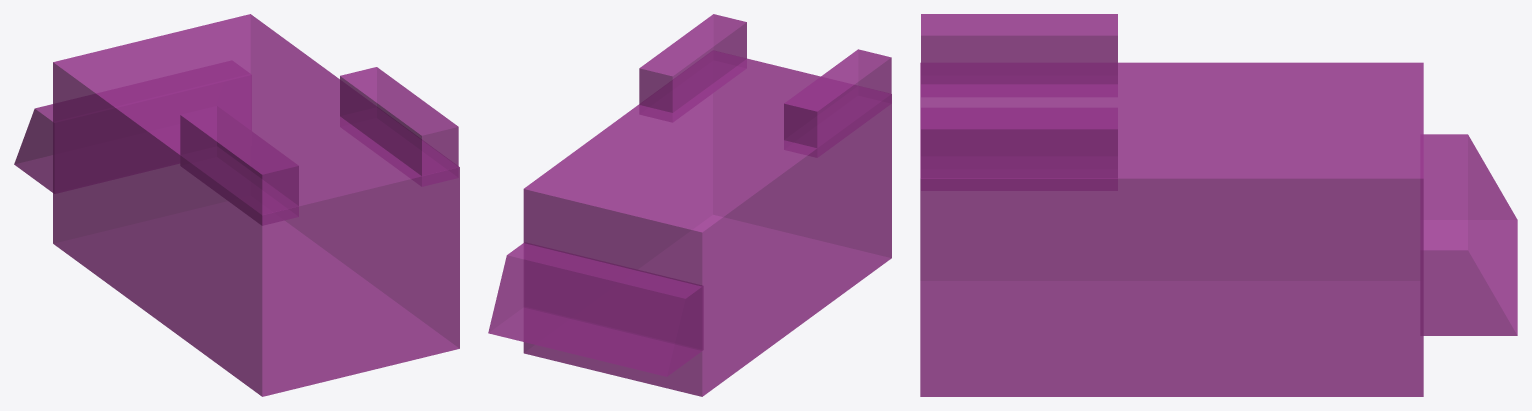
The model's file is SM_Wep_Cannon_06_Collision.fbx.
3 views of the same model, side by side, from view 1: azimuth 30°, elevation 25°; view 2: azimuth 150°, elevation 25°; view 3: azimuth 270°, elevation 25° (orthographic). The views are drawn at different scales.
Visible parts, largest first — view 1: SM_Wep_Cannon_06_Collision; view 2: SM_Wep_Cannon_06_Collision; view 3: SM_Wep_Cannon_06_Collision.
Part boxes in pixels (x1,y1,x2,y2): SM_Wep_Cannon_06_Collision: [14, 14, 459, 396]; SM_Wep_Cannon_06_Collision: [488, 14, 891, 396]; SM_Wep_Cannon_06_Collision: [920, 14, 1517, 396].
Size of the model in its own units: 66.93 by 71.88 by 146.
